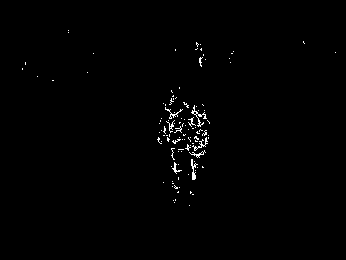person: (158, 85, 192, 195), (188, 103, 210, 197)
